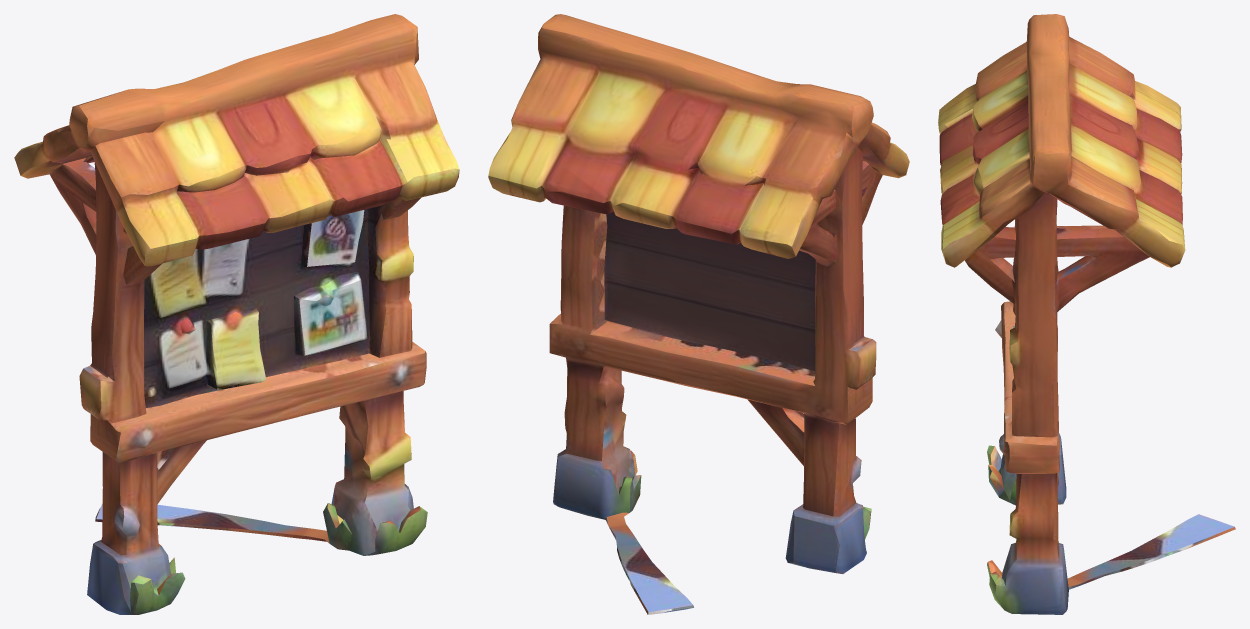
File: noticeboard.glb
3 renders of one model, left to right at view 1: azimuth 30°, elevation 25°; view 2: azimuth 150°, elevation 25°; view 3: azimuth 270°, elevation 25°, orthographic. The views are drawn at different scales.
Parts seen in each view (by area): view 1: noticeboard_s41; view 2: noticeboard_s41; view 3: noticeboard_s41.
Part boxes in pixels (x1=…): noticeboard_s41: x1=14, y1=14, x2=459, y2=614; noticeboard_s41: x1=488, y1=14, x2=909, y2=614; noticeboard_s41: x1=938, y1=14, x2=1235, y2=614.
Bounding box in the file's own units: 0.6906 × 1 × 0.5723.
1 material, 1 textured.
